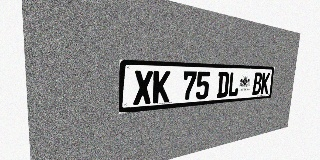5: (196, 71, 210, 100)
7: (181, 71, 197, 101)
B: (252, 72, 263, 95)
D: (217, 72, 230, 98)
K: (152, 71, 171, 103), (260, 72, 270, 94)
L: (228, 72, 240, 97)
X: (133, 70, 153, 105)
